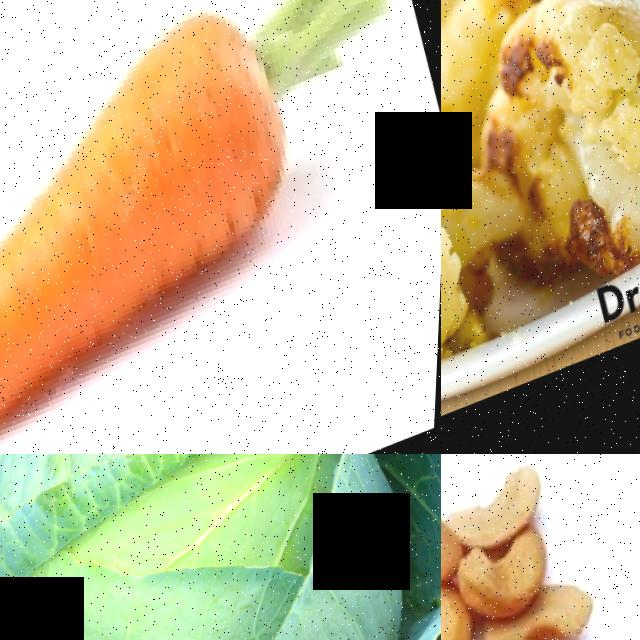cabbage: (0, 454, 441, 640)
carrot: (0, 0, 441, 454)
cashew: (441, 454, 587, 560), (460, 521, 584, 632), (516, 576, 616, 640), (441, 472, 466, 609), (441, 597, 499, 640)
